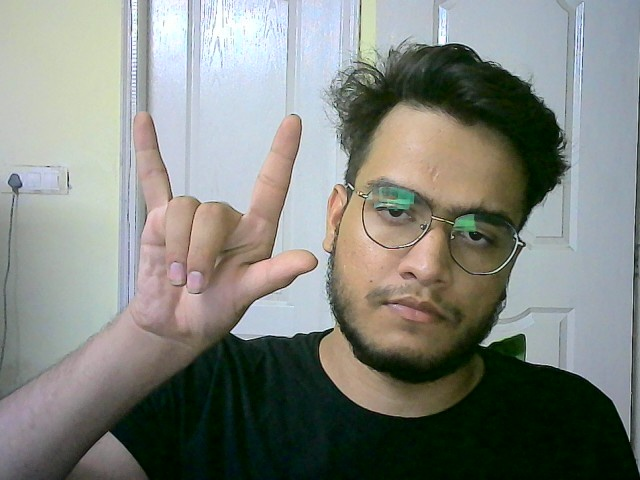I Love You: (125, 107, 319, 346)
